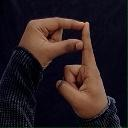hand: (54, 20, 108, 120), (17, 17, 84, 64)
